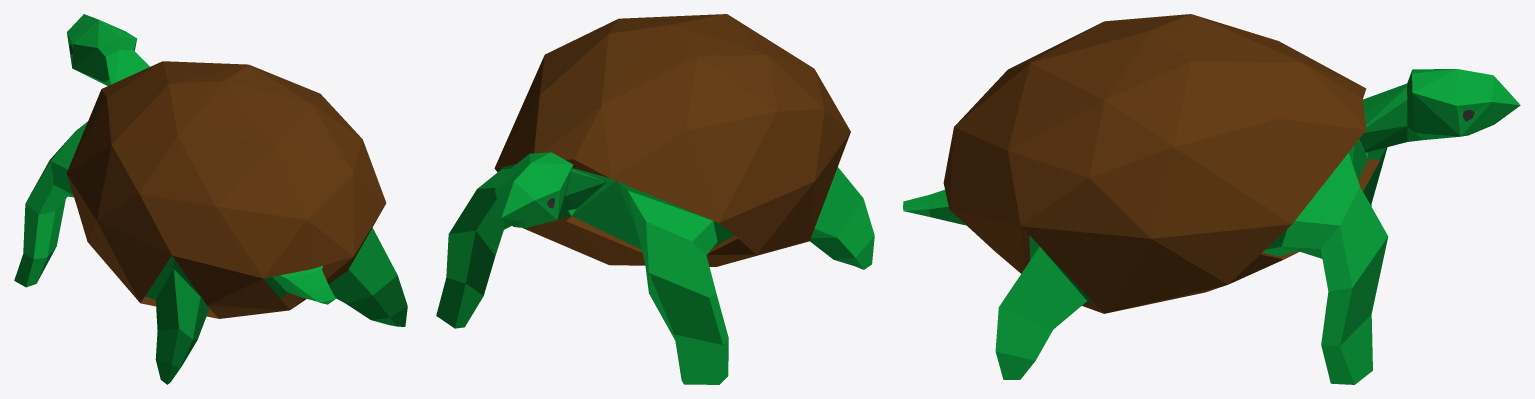
The model's file is ShellDetachedShapeKeys.fbx.
The picture shows the model from 3 angles, left to right: view 1: azimuth 30°, elevation 25°; view 2: azimuth 150°, elevation 25°; view 3: azimuth 270°, elevation 25°; orthographic projection. The views are drawn at different scales.
Parts seen in each view (by area): view 1: Icosphere, Icosphere.001, Icosphere.002; view 2: Icosphere, Icosphere.001, Icosphere.002; view 3: Icosphere, Icosphere.001, Icosphere.002.
Part boxes in pixels (box(x1,y1,x2,y2)): Icosphere: box(14, 61, 407, 384); Icosphere.001: box(67, 14, 137, 85); Icosphere.002: box(105, 49, 149, 84); Icosphere: box(436, 14, 874, 384); Icosphere.001: box(495, 152, 573, 228); Icosphere.002: box(560, 169, 606, 212); Icosphere: box(903, 14, 1388, 384); Icosphere.001: box(1407, 69, 1520, 141); Icosphere.002: box(1359, 83, 1407, 152).
Size of the model in its own units: 115 by 98.56 by 198.
1 material, 1 textured.
